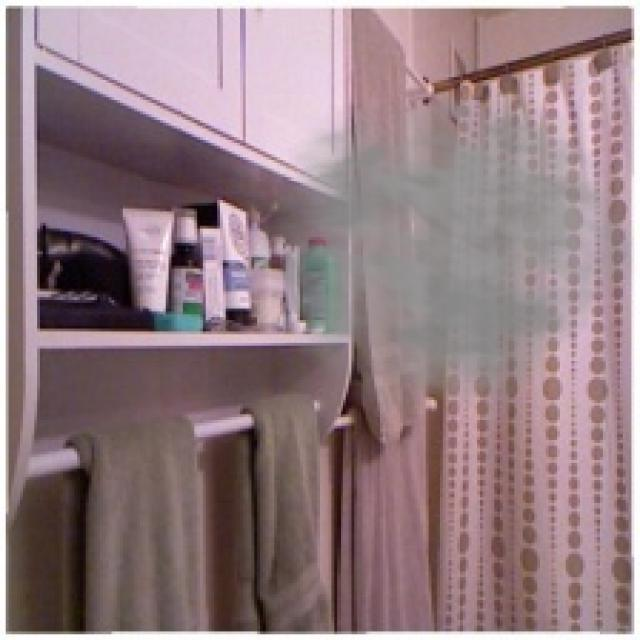smoke: (226, 80, 637, 429)
